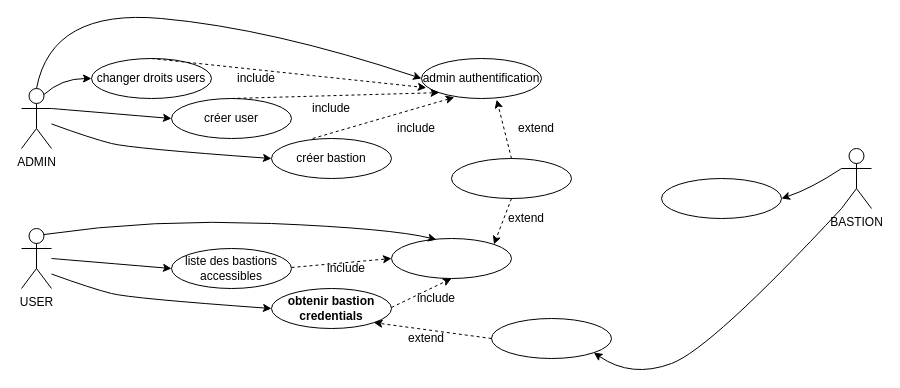
Image size: 900x388. Some labels were removed from this diagram. Here are the shapes that lost their labels. From the top down, the box of each, then its label:
(450, 158, 572, 198): 2FA
(660, 178, 782, 218): connexion à l'agent
(390, 238, 512, 278): authentification
(490, 318, 612, 358): connexion
